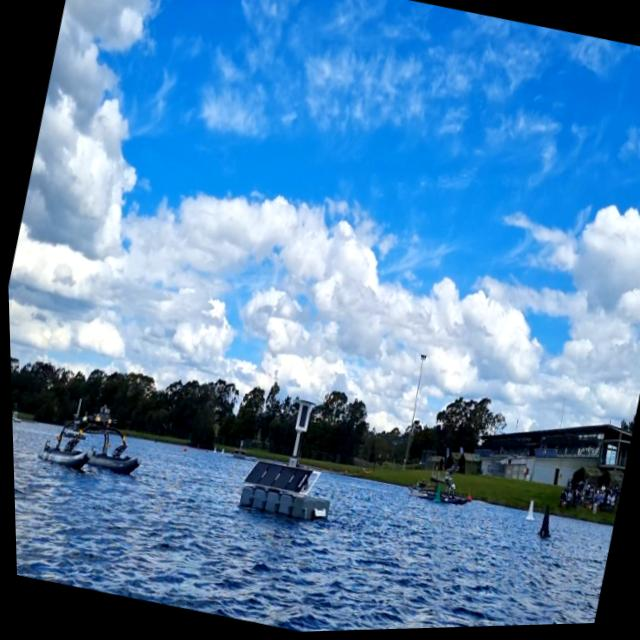led: (293, 405, 308, 432)
